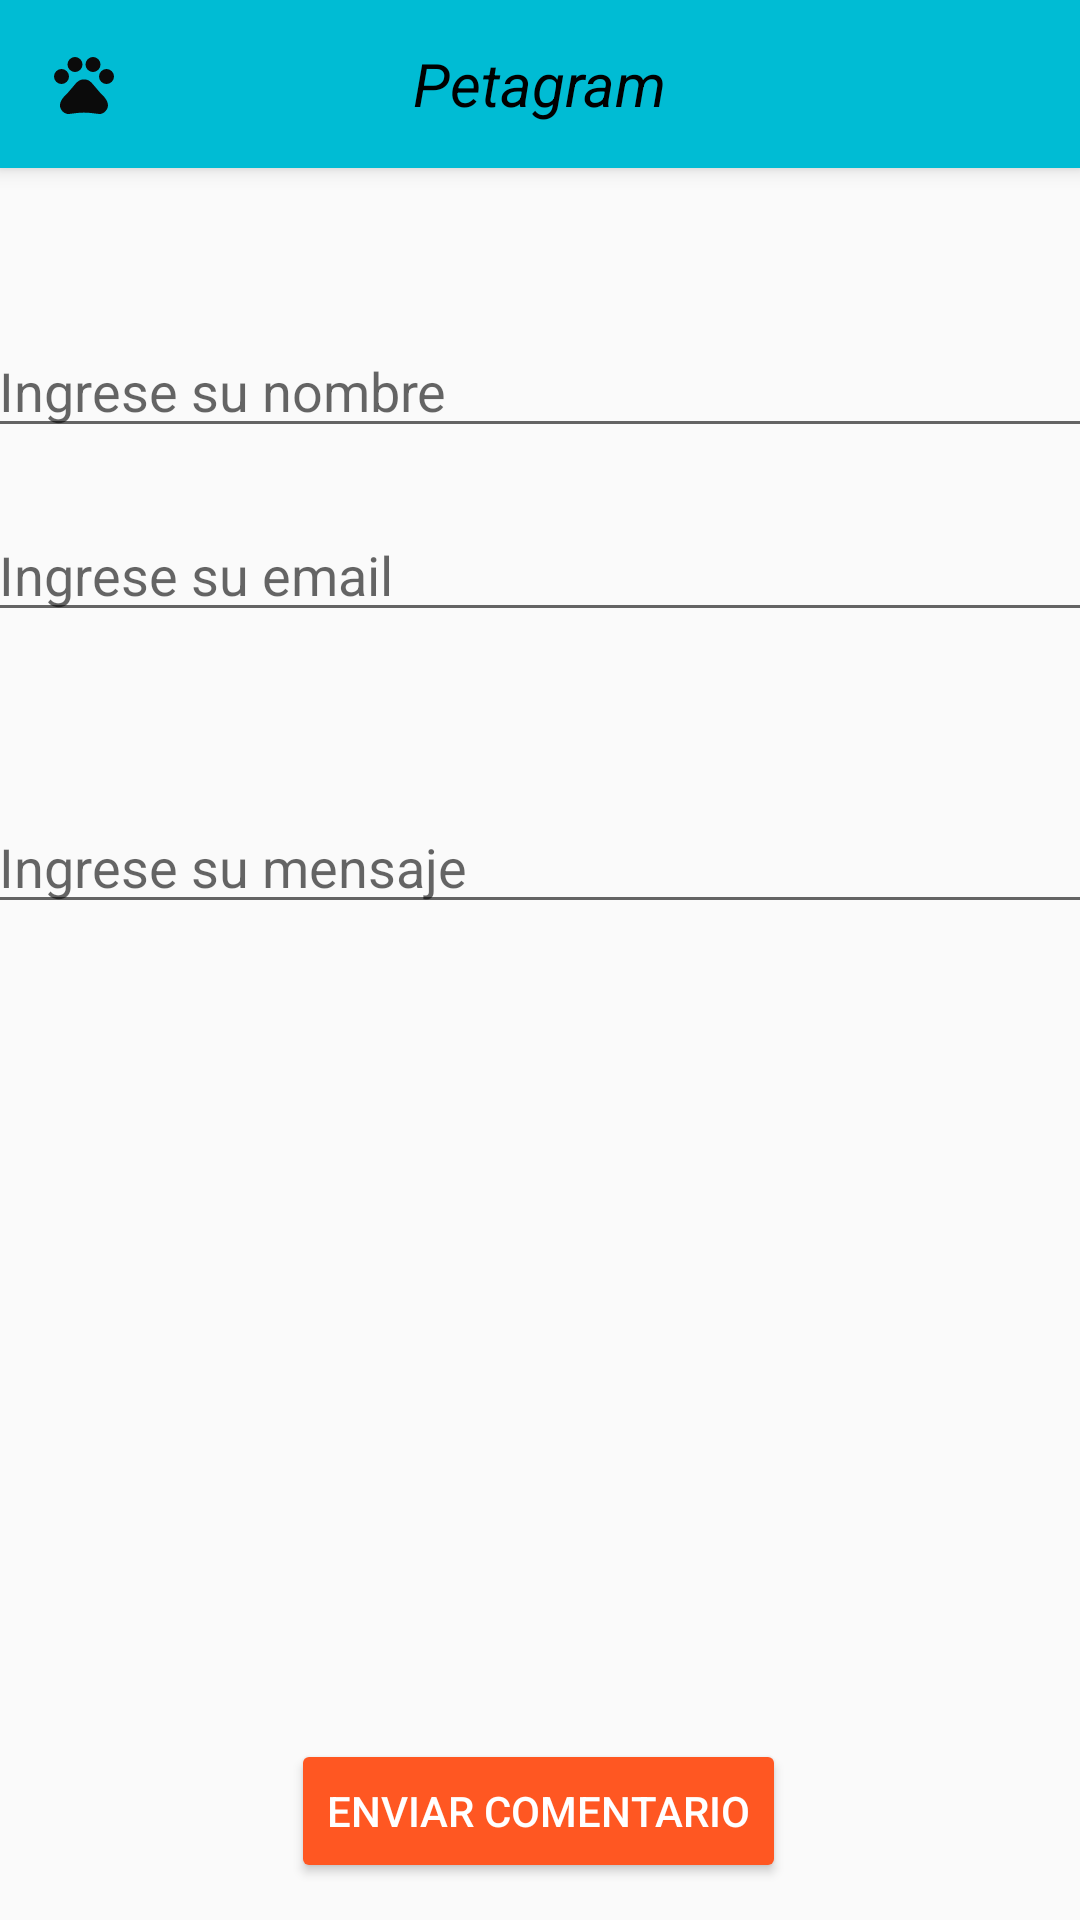

Where icons sit on this 1080×1920 app screen, as {"x1": x1, "y1": y1, "x2": x2, "y2": y2}:
mascotas: {"x1": 54, "y1": 57, "x2": 114, "y2": 114}
